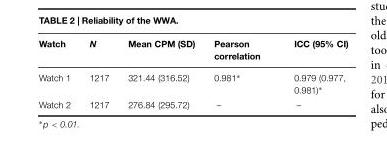table: (37, 37, 347, 109)
table column: (117, 37, 203, 109), (203, 37, 276, 109), (276, 37, 347, 109), (37, 37, 79, 109), (79, 37, 117, 109)
table column header: (37, 37, 347, 65)
table row: (37, 65, 347, 97), (37, 37, 347, 65), (37, 97, 347, 109)
